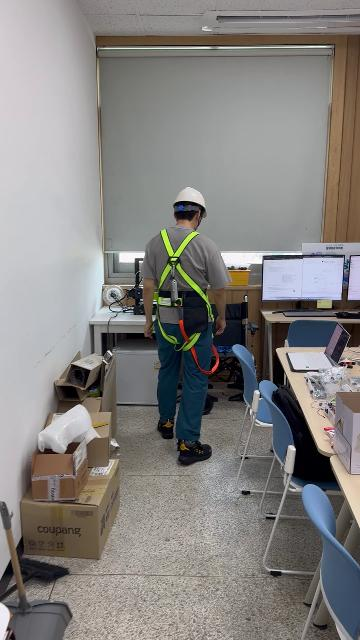helmet_worn: (172, 186, 207, 219)
shoe_worn: (177, 439, 211, 464), (157, 417, 174, 438)
vest_worn: (154, 230, 215, 340)
